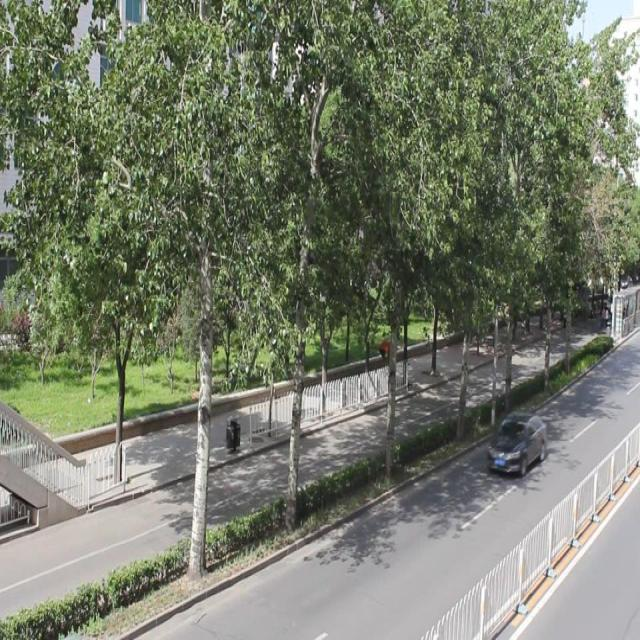car: (488, 410, 544, 472)
